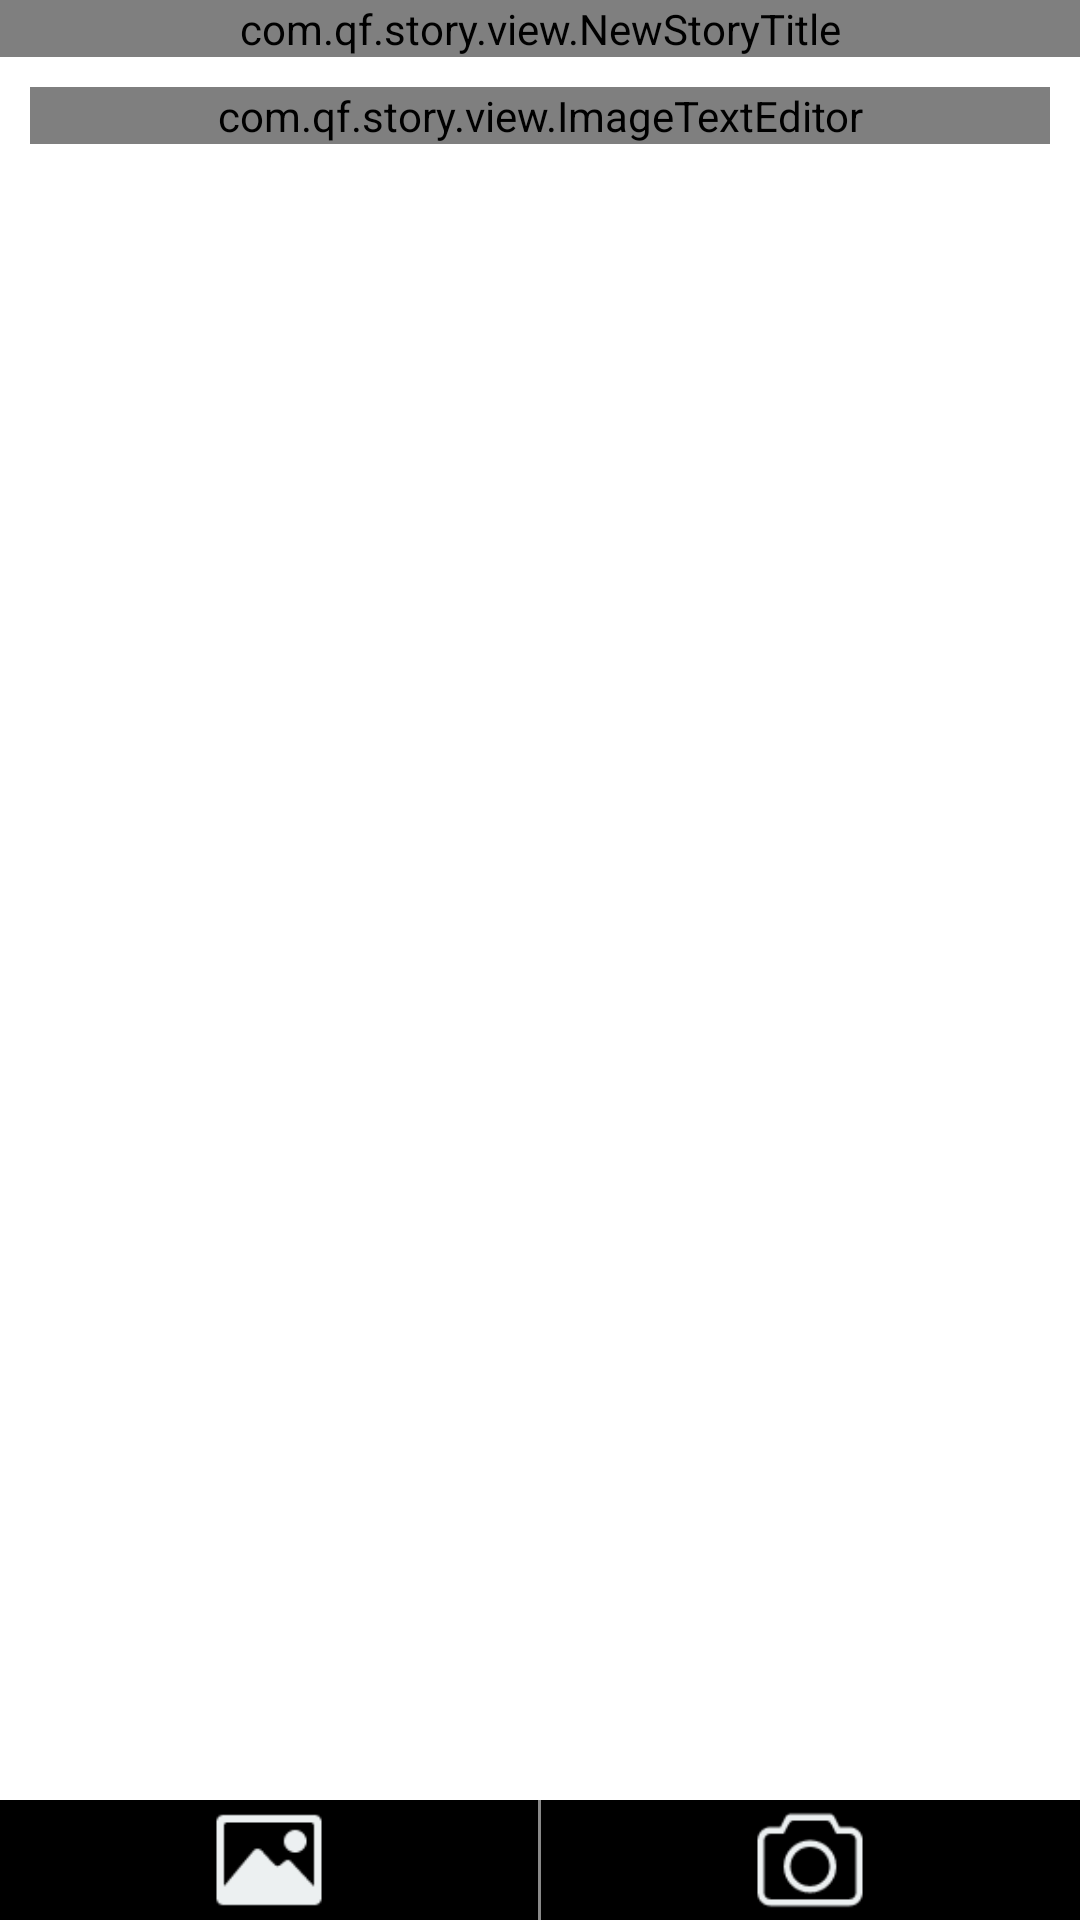

Icon click points for this 1080w x 1920h phone screenshot, format point (x, y):
camera: point (810, 1860)
